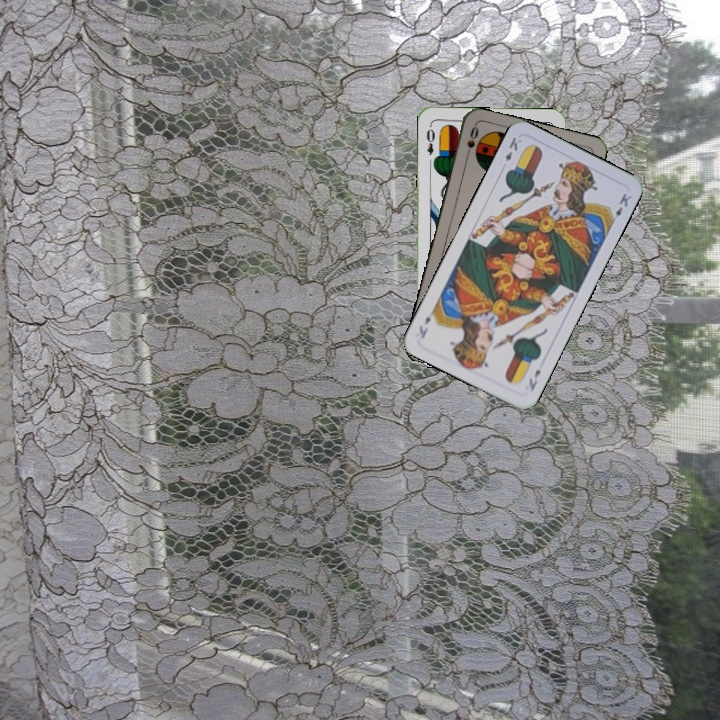EK: (501, 133, 524, 164), (525, 365, 543, 394)
EO: (422, 125, 437, 157)
SO: (462, 122, 481, 162)
